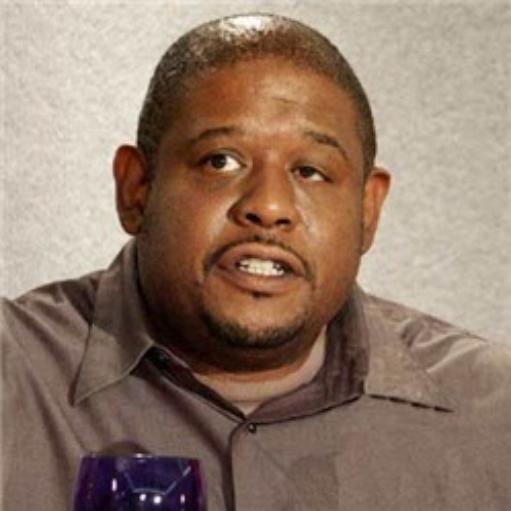left_eye: (292, 164, 333, 182)
left_lip_corner: (290, 265, 309, 286)
right_eye: (195, 153, 248, 176)
right_lip_corner: (215, 251, 235, 276)
